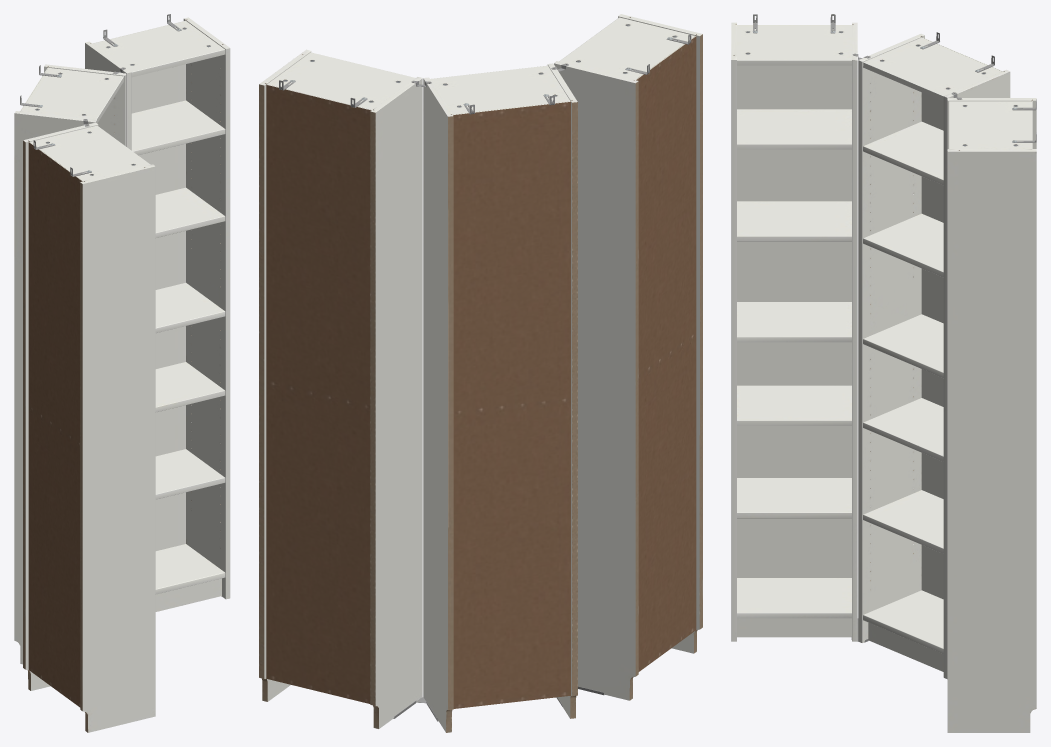
Rendered from 37 - BILLY Bookcase combinationcrnr solution - white 9595x28x202 cm.glb.
3 views of the same model, side by side, from view 1: azimuth 30°, elevation 25°; view 2: azimuth 150°, elevation 25°; view 3: azimuth 270°, elevation 25° (orthographic). The views are drawn at different scales.
Bounding box in the file's own units: 0.961 × 2.05 × 0.961.
Materials: 1 (1 with a texture image).
